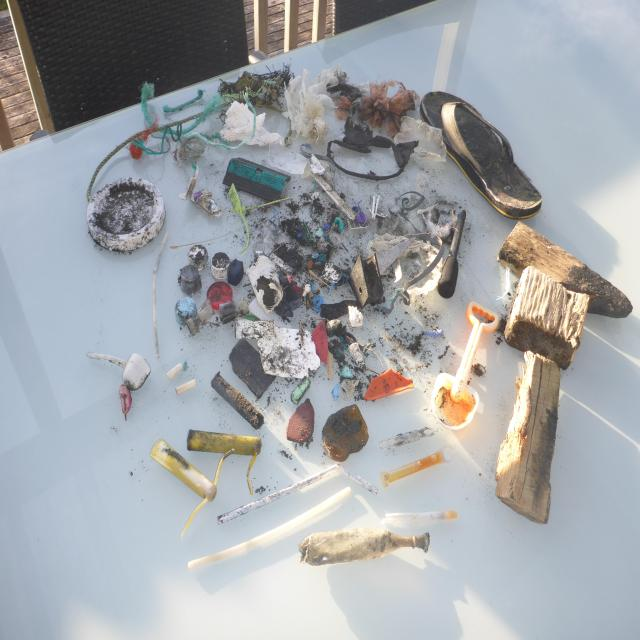litter: (282, 64, 446, 168), (419, 92, 543, 220), (87, 101, 234, 203), (187, 485, 351, 569), (217, 464, 378, 525), (431, 302, 500, 430), (150, 439, 235, 539), (380, 190, 445, 315), (87, 177, 166, 252), (367, 233, 442, 305), (299, 528, 430, 566), (187, 429, 261, 495), (184, 86, 257, 150), (229, 183, 294, 254), (141, 83, 222, 136), (301, 154, 358, 221), (222, 157, 291, 206), (380, 444, 456, 488), (217, 65, 294, 108), (257, 327, 321, 378), (211, 370, 264, 429), (229, 339, 276, 399), (322, 404, 368, 462), (437, 211, 466, 299), (86, 353, 151, 391), (178, 166, 221, 220), (152, 231, 169, 360), (246, 256, 283, 314), (348, 252, 384, 309), (327, 155, 404, 181), (252, 219, 295, 261), (255, 98, 292, 144), (364, 368, 414, 401), (131, 123, 182, 155), (174, 132, 220, 165), (379, 427, 438, 451), (248, 297, 292, 328), (130, 114, 160, 159), (286, 398, 315, 443), (268, 142, 307, 175), (380, 510, 458, 526), (185, 299, 216, 335), (163, 89, 205, 112), (235, 317, 275, 340), (219, 297, 249, 324), (206, 281, 233, 309), (312, 319, 328, 365), (180, 265, 202, 295), (175, 297, 197, 325), (290, 376, 311, 405), (378, 287, 403, 311), (269, 253, 295, 275), (188, 244, 209, 271), (211, 252, 230, 280), (227, 258, 244, 287), (338, 379, 359, 402), (319, 262, 342, 283), (348, 342, 365, 369), (369, 196, 388, 220), (326, 320, 347, 338), (175, 379, 197, 395), (348, 305, 364, 327), (309, 295, 325, 313), (167, 363, 183, 380), (339, 364, 354, 379), (303, 221, 314, 241), (301, 192, 319, 204), (331, 382, 341, 401), (354, 211, 367, 225), (327, 351, 333, 381), (425, 329, 444, 338), (334, 216, 343, 231), (301, 284, 311, 297), (305, 260, 313, 271), (318, 254, 327, 263), (315, 228, 323, 237), (321, 224, 330, 230), (312, 253, 319, 258)
